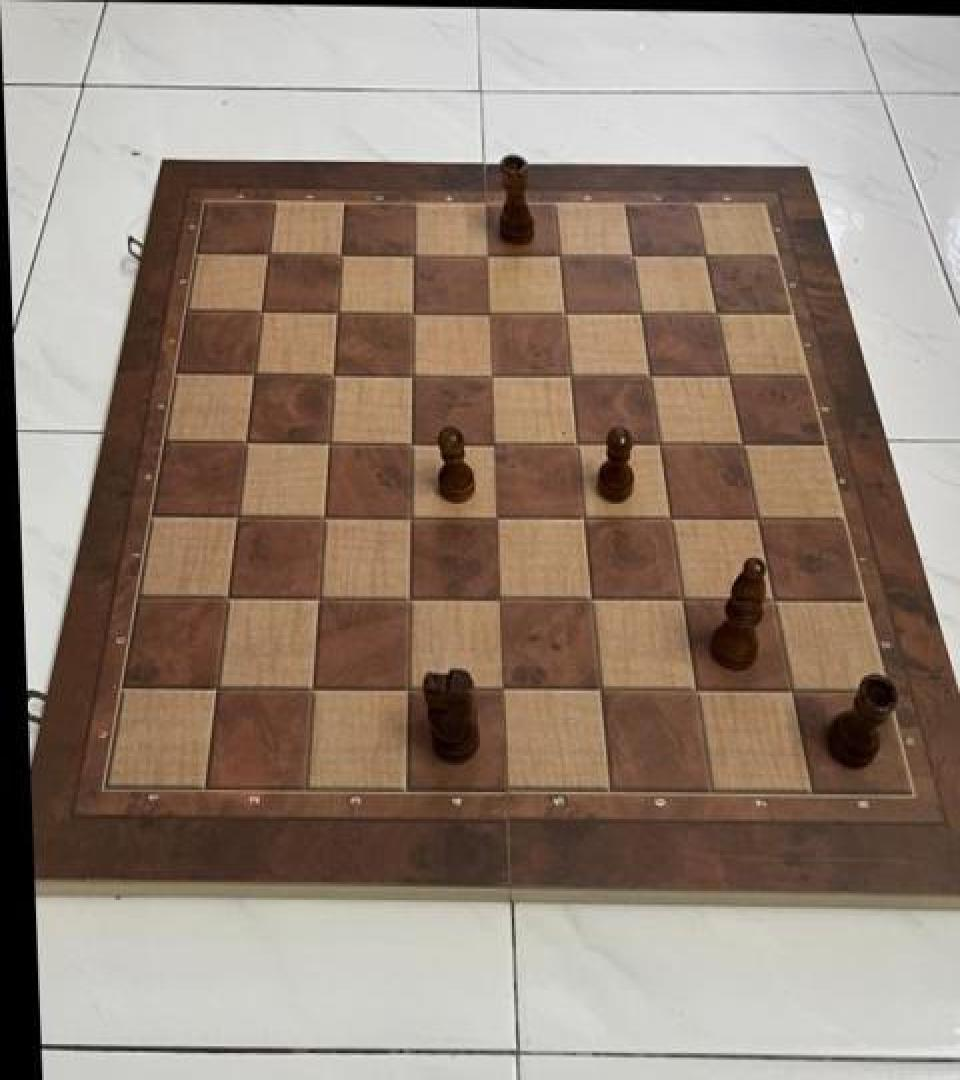xcorner: (689, 237, 723, 276), (616, 237, 650, 276), (543, 237, 577, 276), (481, 499, 515, 538), (395, 499, 429, 538), (308, 499, 342, 538), (470, 236, 504, 274), (398, 236, 432, 274), (325, 236, 359, 274), (252, 236, 286, 274), (701, 296, 735, 334), (625, 295, 659, 333), (549, 295, 583, 333), (473, 295, 507, 333), (397, 294, 431, 332), (321, 294, 355, 332), (245, 294, 279, 332), (713, 358, 747, 396), (634, 358, 668, 396), (555, 358, 589, 396), (475, 357, 509, 395), (396, 357, 430, 395), (317, 357, 351, 395), (238, 357, 272, 395), (726, 426, 760, 464), (644, 426, 678, 464), (561, 426, 595, 464), (478, 426, 512, 464), (395, 426, 429, 464), (313, 424, 347, 462), (230, 424, 264, 462), (741, 501, 775, 539), (654, 501, 688, 539), (568, 501, 602, 539), (222, 498, 256, 536), (757, 583, 791, 621), (666, 583, 700, 621), (575, 582, 609, 620), (484, 582, 518, 620), (394, 582, 428, 620), (303, 580, 337, 618), (212, 580, 246, 618), (775, 674, 809, 712), (679, 673, 713, 711), (584, 673, 618, 711), (488, 672, 522, 710), (393, 672, 427, 710), (297, 672, 331, 710), (202, 670, 236, 708)
